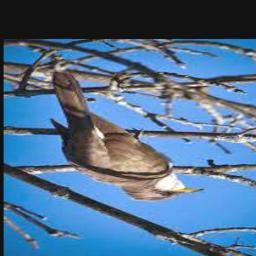Cuckoo: (48, 71, 201, 201)
